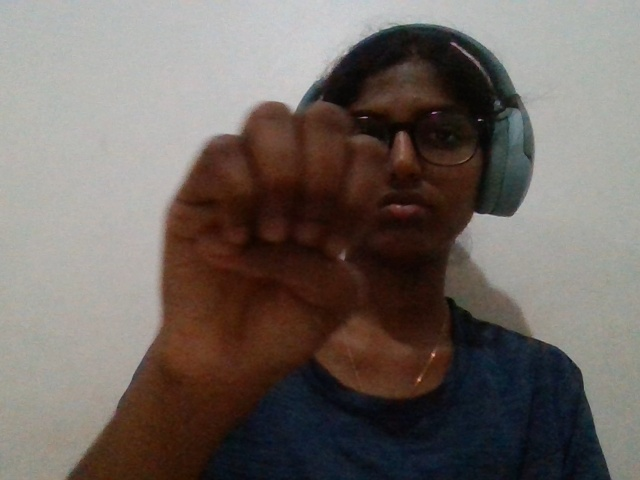E: (128, 81, 419, 440)
